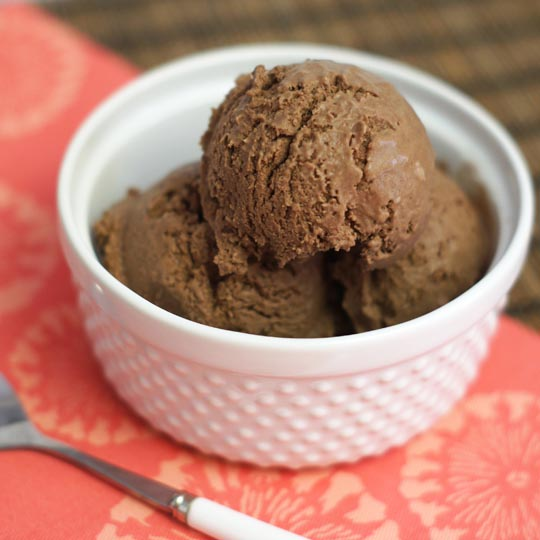ice-cream: (203, 68, 429, 267), (103, 161, 335, 342), (343, 169, 489, 334)
